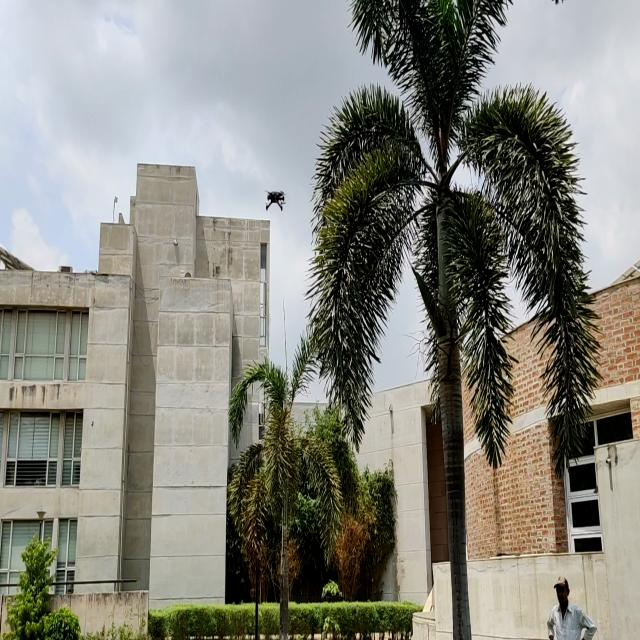drone: (260, 181, 292, 216)
